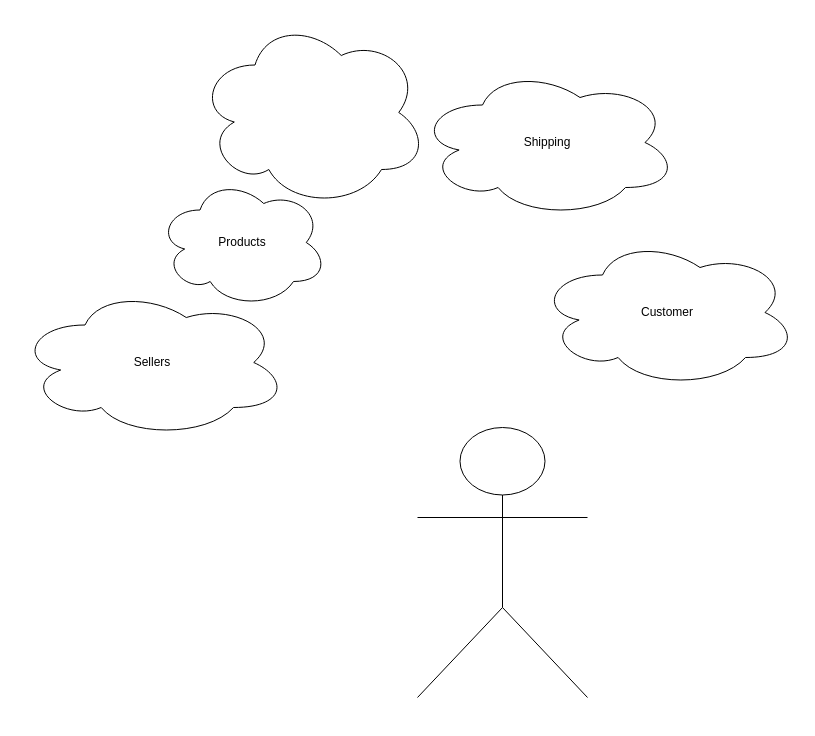
Image size: 815x736. Some labels were removed from this diagram. The shapes that lost their labels are listed below. From the top down, each one's box as (x1, y1, x2, y2) in pixels, then its label:
(196, 16, 428, 208): Interaction
(416, 426, 588, 698): My website
